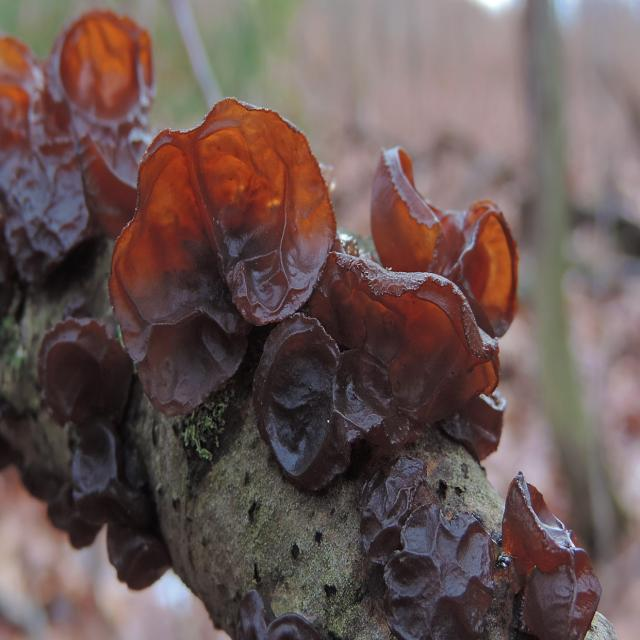Matang: (125, 98, 342, 416), (2, 5, 152, 306), (30, 306, 161, 600), (356, 130, 534, 346), (247, 305, 401, 508), (349, 444, 491, 640), (494, 460, 609, 640)
